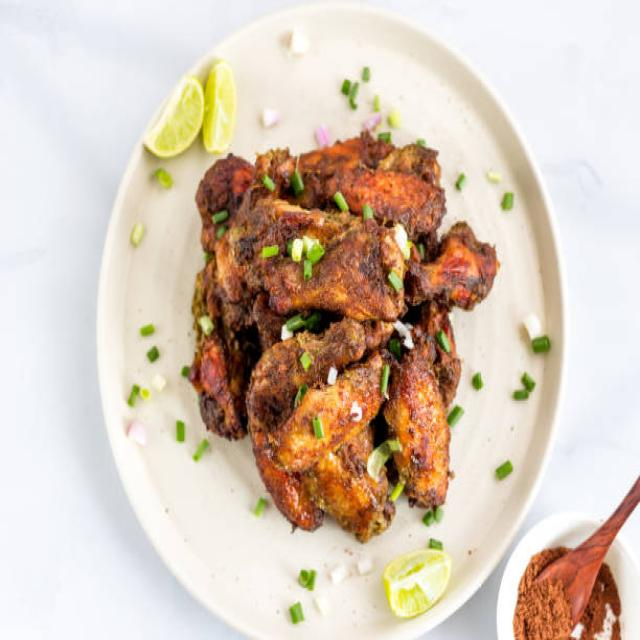Frango: (189, 130, 498, 546)
